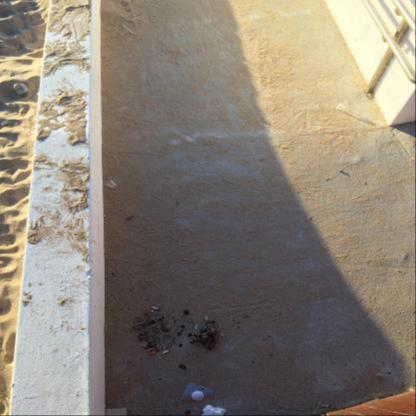Cigarette: (163, 350, 169, 354), (153, 307, 160, 310), (150, 352, 156, 355), (154, 323, 158, 327), (322, 406, 329, 408), (140, 345, 146, 347), (149, 349, 155, 351), (110, 296, 113, 300), (152, 353, 156, 355), (104, 214, 106, 218), (151, 310, 155, 312)
Cup: (106, 180, 118, 188), (336, 102, 346, 110)
Paper: (200, 405, 227, 415)
Plastic bag - wrapper: (171, 382, 214, 416)
